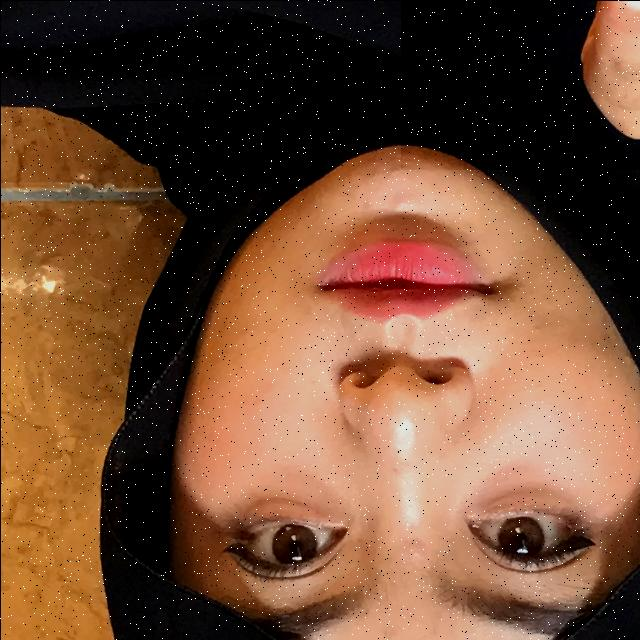kamu: (400, 0, 640, 169)
